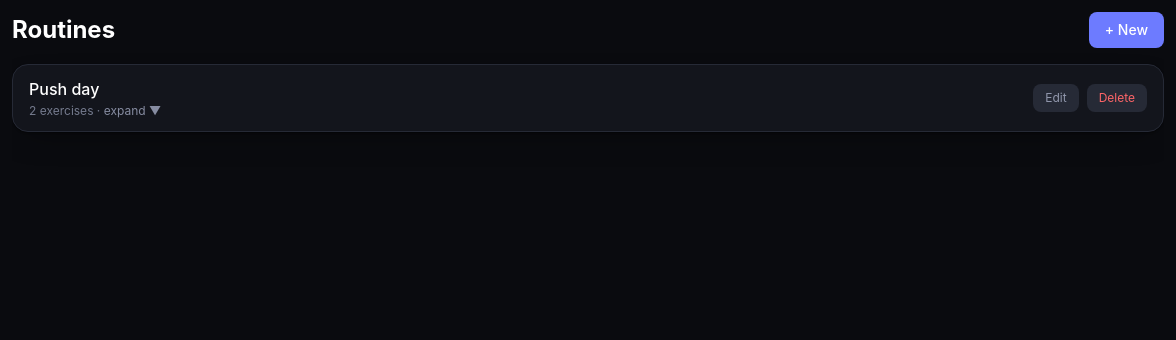
Test case: RoutinesPage reordering › restores the previous order when the API rejects
What coordinates should you click on to do the following:
click the text "Push day"
I would click on:
 (64, 89)
Its box is [29,79,99,99].
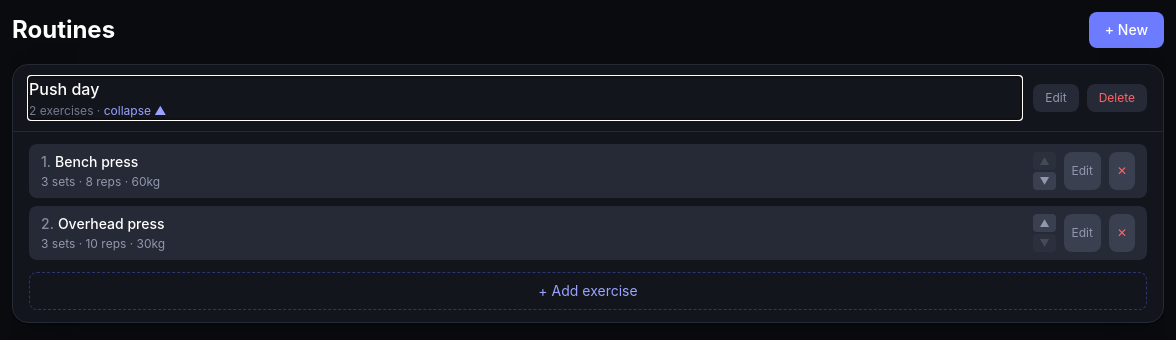
What coordinates should you click on to do the following:
click the button named "Move Bench press down"
I would click on:
 (1044, 181)
Its box is [1033,172,1056,190].
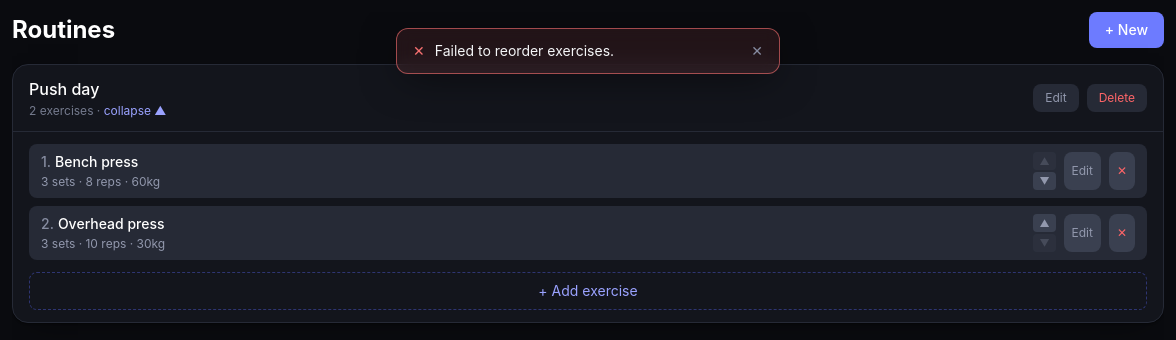
Result: the text "Failed to reorder exercises." is shown at [435,42,614,59]
